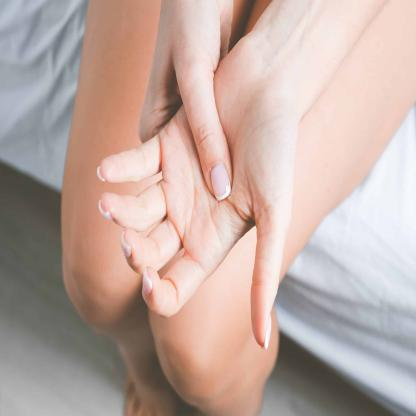Healthy Skin: (81, 0, 342, 277), (79, 277, 286, 416), (342, 1, 416, 115)
